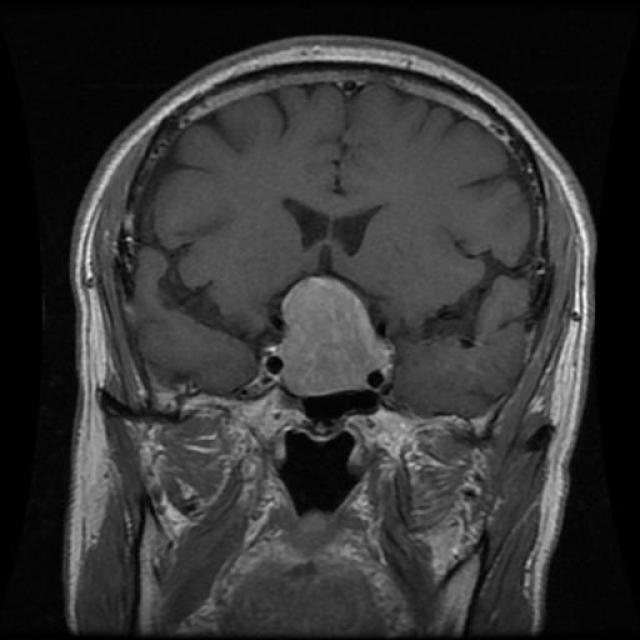pituitary: (264, 264, 405, 386)
